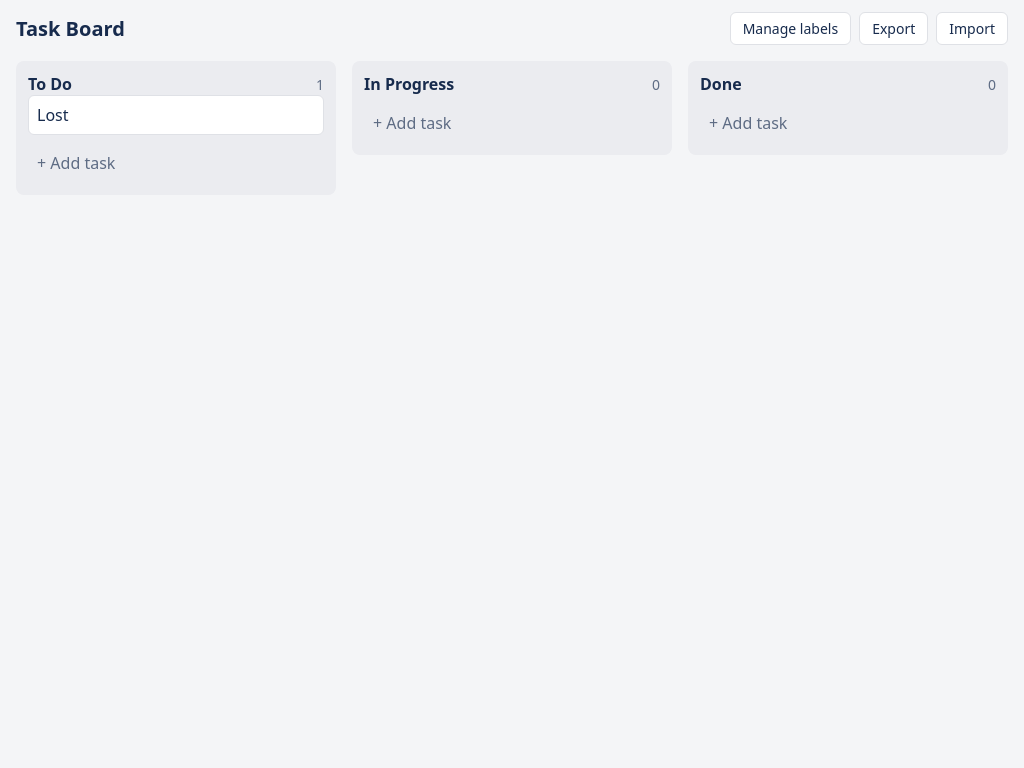
Keyboard use of the modal › when focus has somehow left the modal › still closes on Escape
Click the heading "Lost": (53, 115) left=37, top=104, right=68, bottom=126
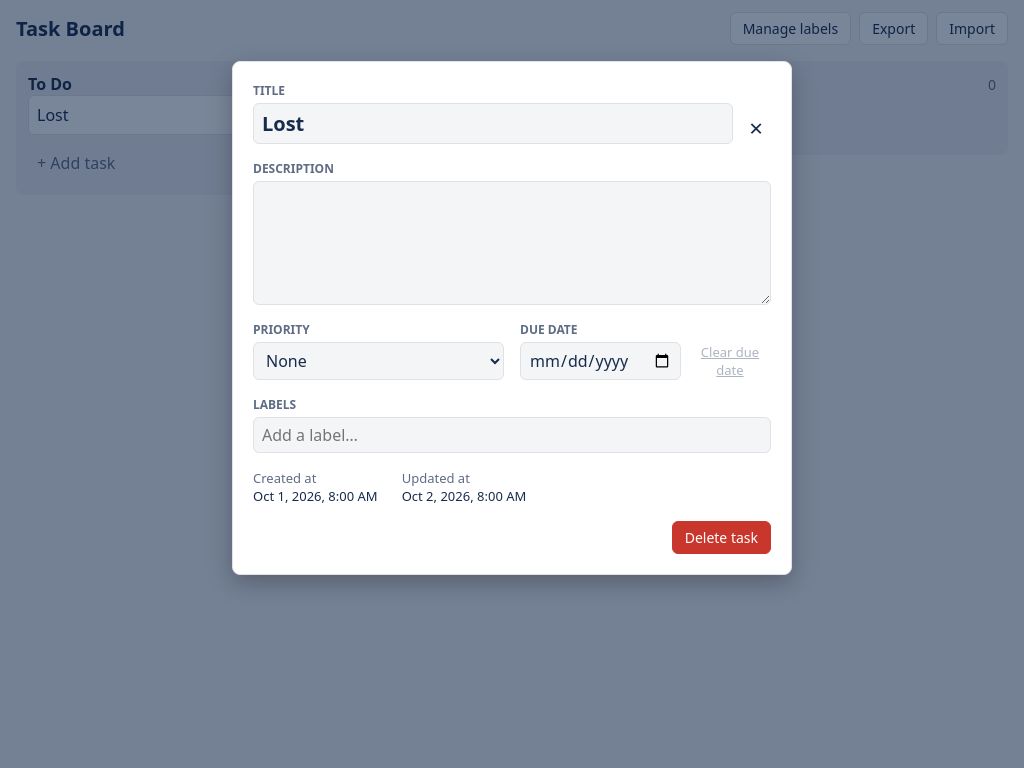
Press Escape
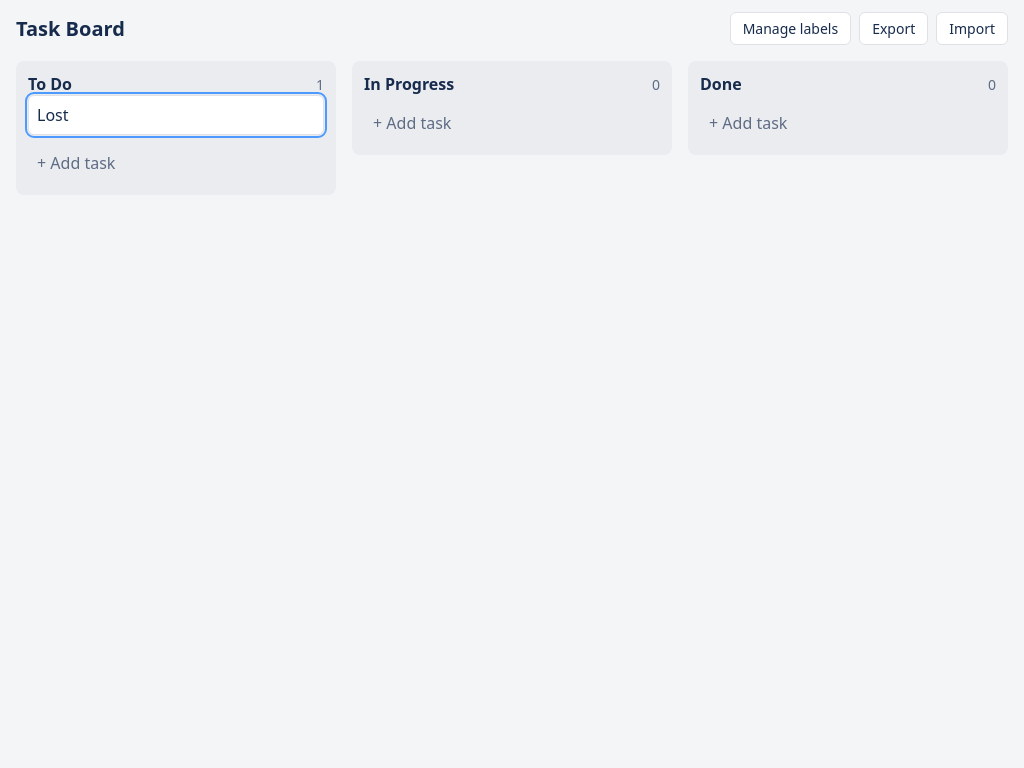
expect the dialog is gone: met
